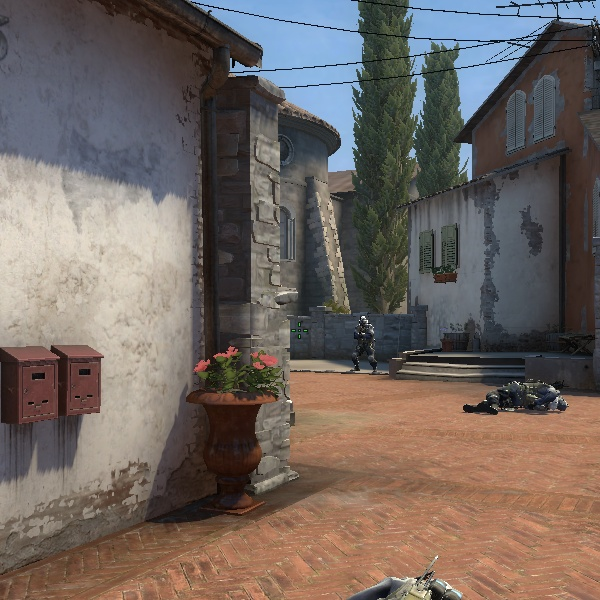ct_body: (348, 314, 378, 371)
